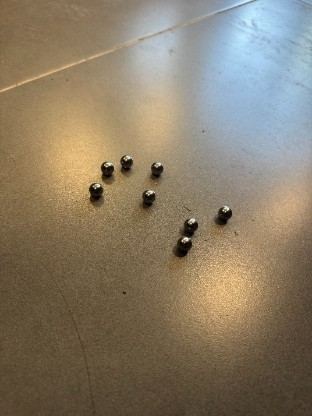ironball: (177, 236, 192, 251), (183, 217, 198, 232), (89, 182, 103, 197), (218, 206, 232, 220), (100, 161, 114, 175), (142, 189, 155, 203), (120, 154, 133, 168), (150, 161, 163, 175)
